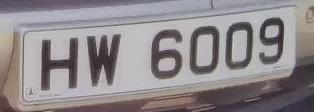0: (186, 19, 225, 81), (223, 15, 258, 76)
6: (146, 20, 190, 90)
9: (254, 11, 288, 71)
H: (32, 33, 86, 93)
W: (82, 29, 122, 90)
